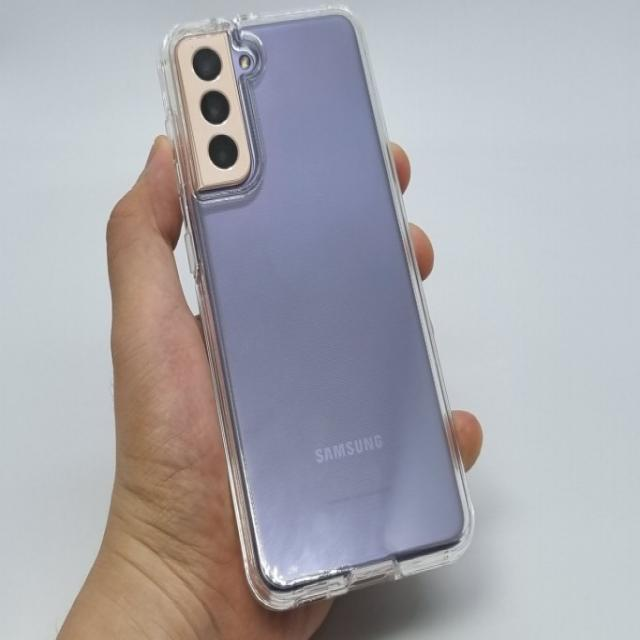phone: (158, 4, 477, 608)
